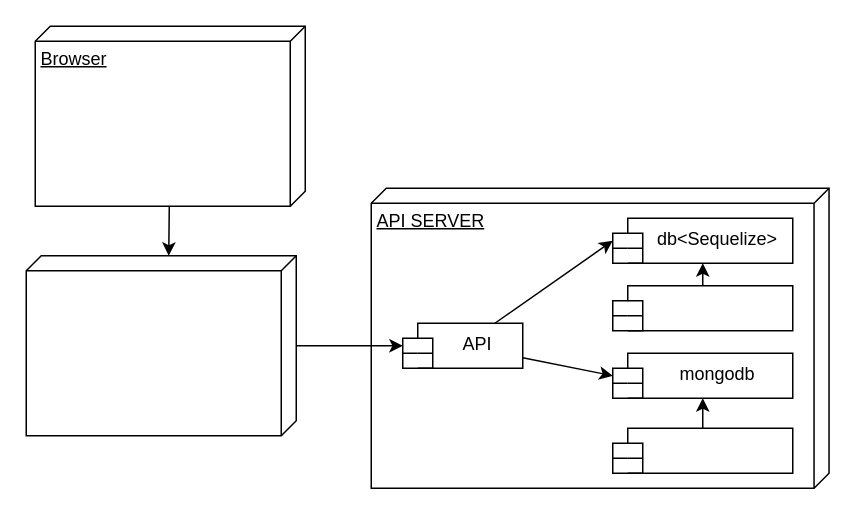
Image size: 857x515. Some labels were removed from this diagram. Here are the shapes that lost their labels. From the top down, the centre of each, then its label:
At (x=702, y=307): "pg-admin".
At (x=160, y=345): "FRONT SERVER".
At (x=702, y=450): "mongoexpress".
